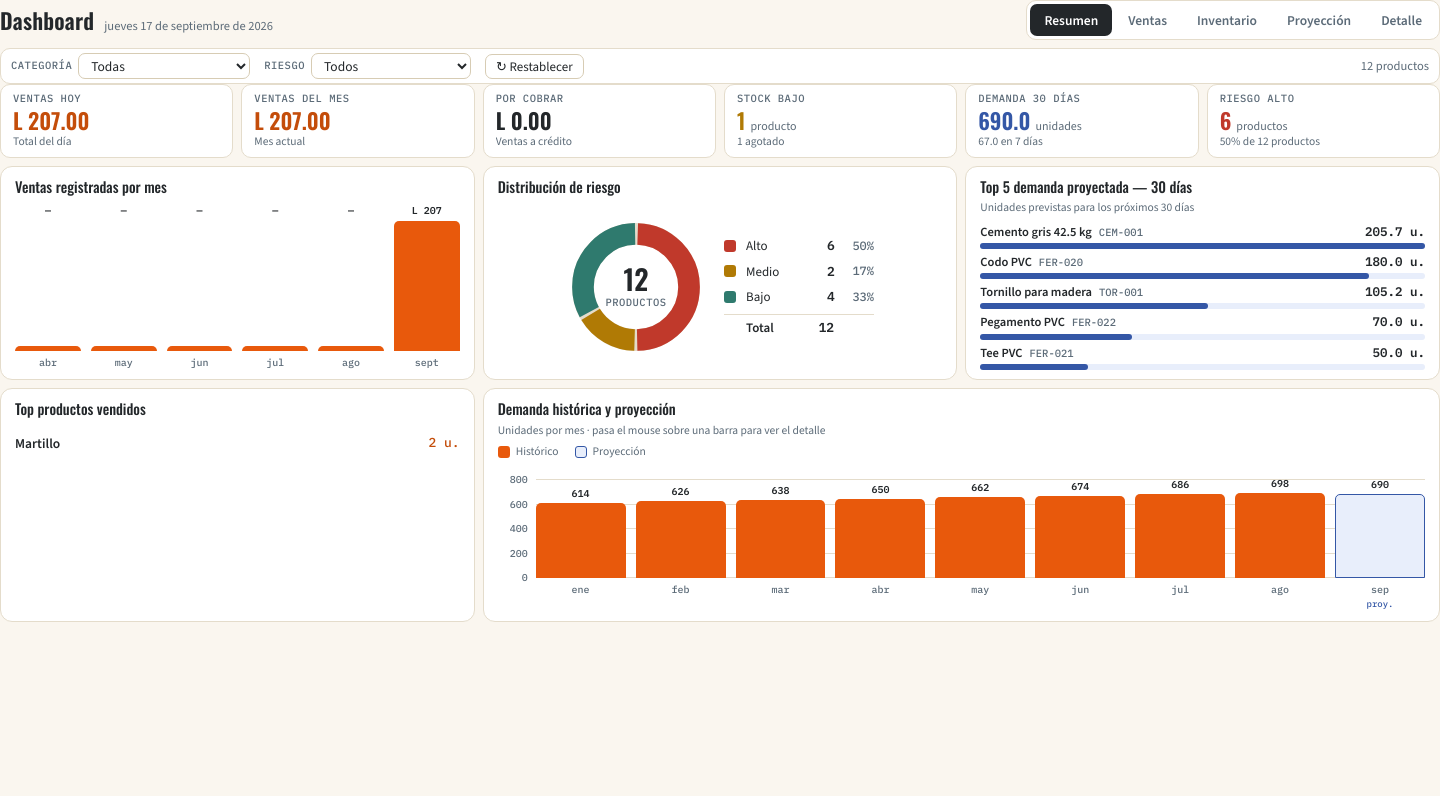
Scenario: navegación entre vistas › Detalle muestra la tabla de recomendaciones
Expected: the text "Distribución de riesgo" is shown, [498,176,621,197]
Click the tab "Detalle": (1402, 20) [1367,4,1436,36]
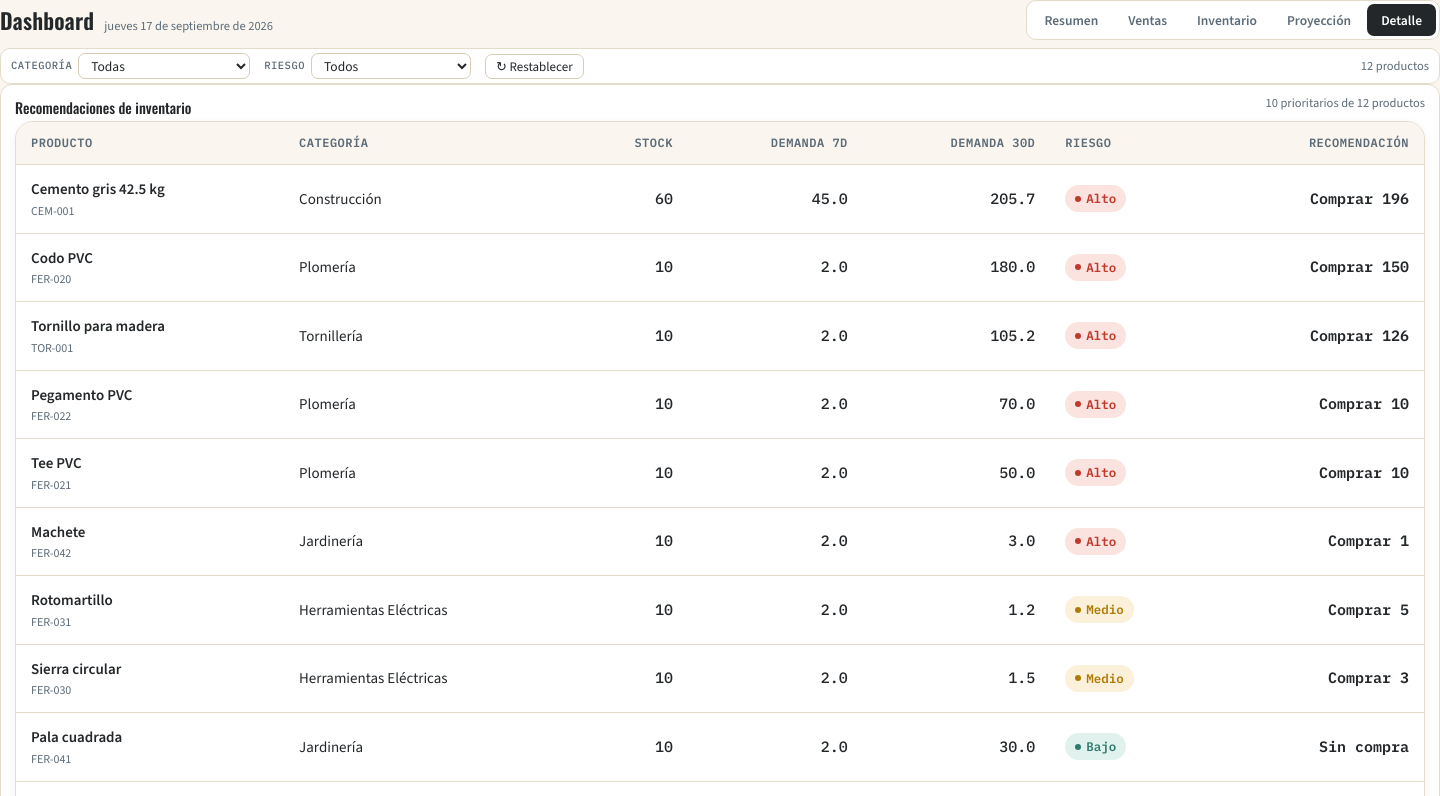
Result: the text "Recomendaciones de inventario" is shown at [15,97,191,119]
Result: the text "Distribución de riesgo" is gone
